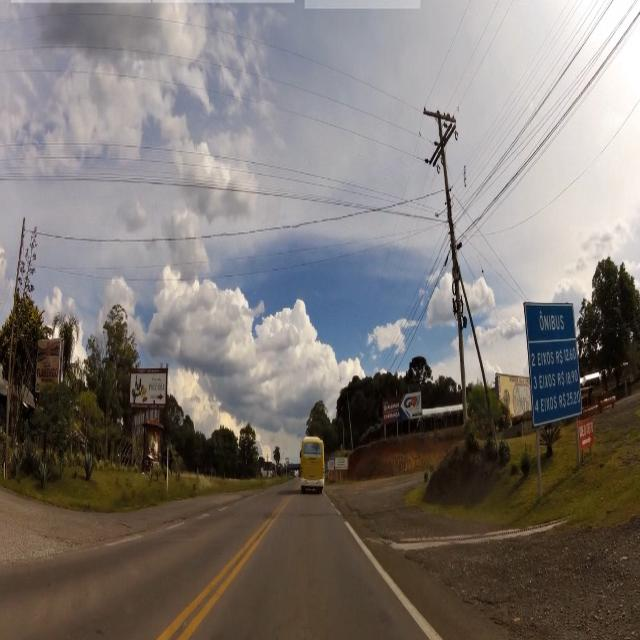LOC-6: (524, 294, 582, 422)
